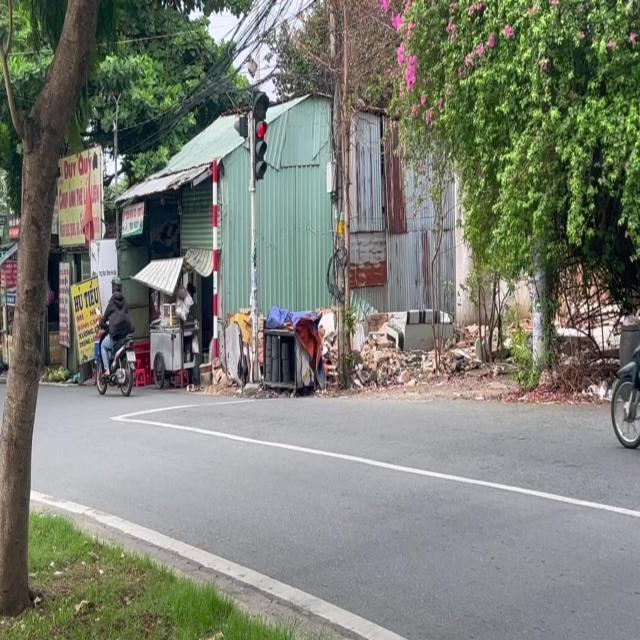red_light: (242, 91, 273, 184)
